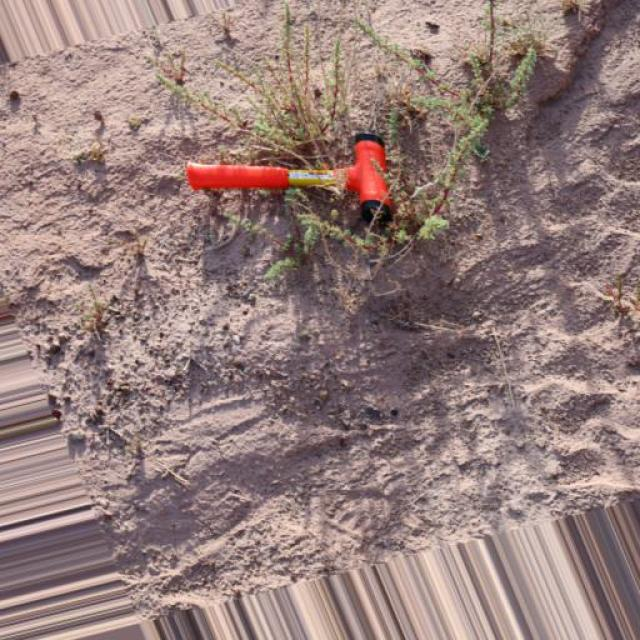mallet: (184, 130, 395, 225)
